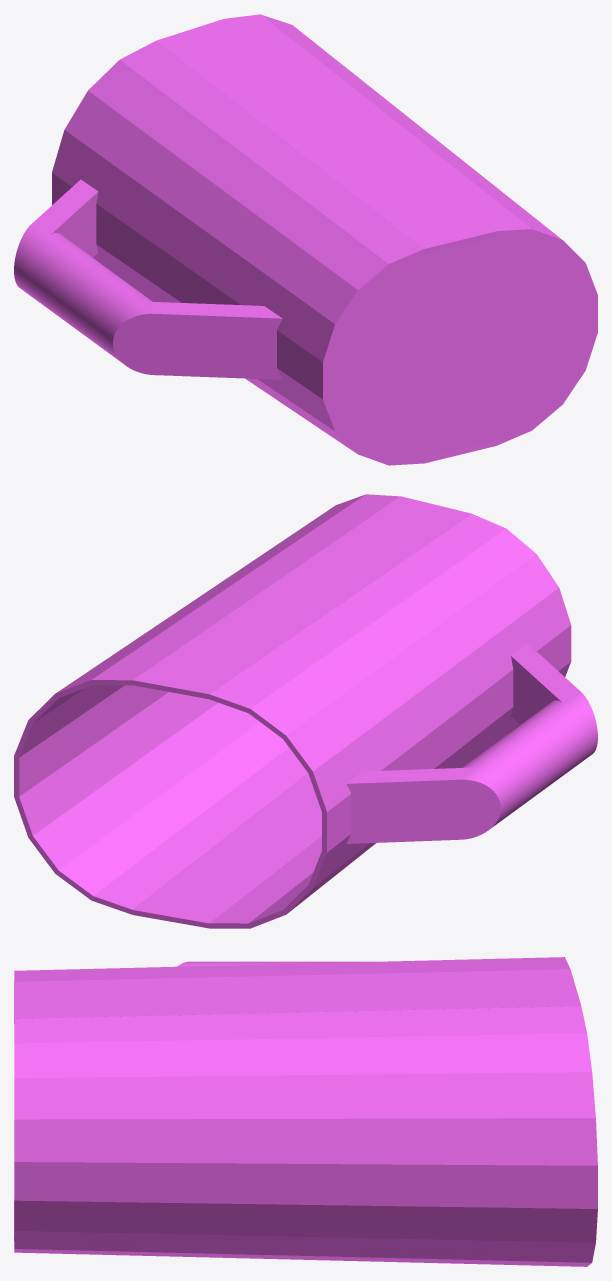
The model's file is CreamCup.fbx.
3 renders of one model, top to bottom at view 1: azimuth 30°, elevation 25°; view 2: azimuth 150°, elevation 25°; view 3: azimuth 270°, elevation 25°, orthographic. The views are drawn at different scales.
Visible parts, largest first — view 1: Blank_Jug; view 2: Blank_Jug; view 3: Blank_Jug.
Part boxes in pixels (left/top/right/bottom): Blank_Jug: left=14, top=14, right=597, bottom=465; Blank_Jug: left=14, top=494, right=597, bottom=928; Blank_Jug: left=14, top=957, right=597, bottom=1266.
Size of the model in its own units: 1663 by 937 by 1997.
